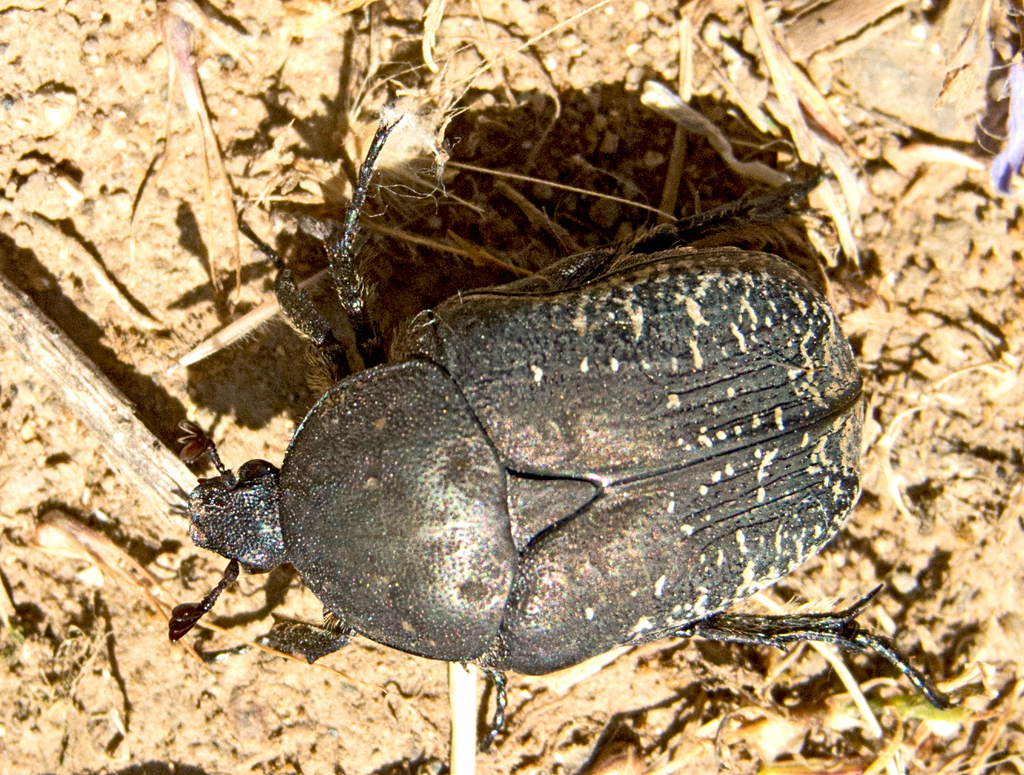Protaetia_vidua: (154, 163, 967, 733)
